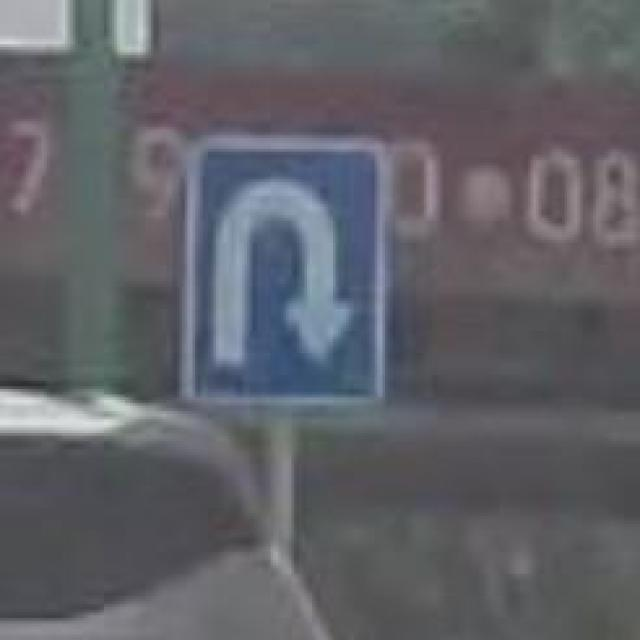traffic sign: (182, 135, 392, 411)
